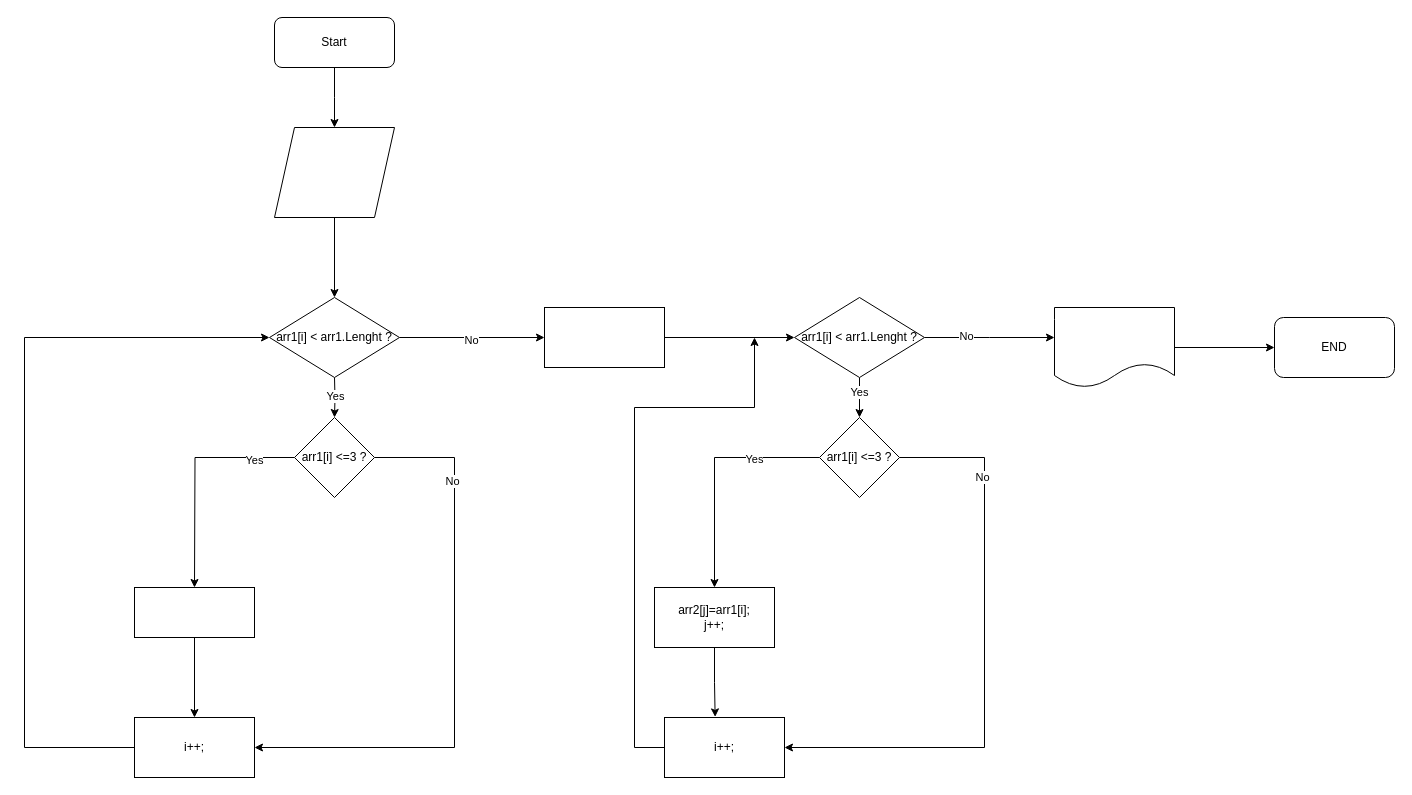
Some shapes in this 1412 by 795 pixel diagram are drawn without their labels. The shapes that lost their labels are listed below. From the top down, each one's centre as x and y in pixels, then its label:
At point (334, 172): "arr1; arr1.Lenght; i=0; j=0; count = 0;".
At point (604, 337): "i=0; arr2.Lenght = count".
At point (1114, 347): "arr2;".
At point (194, 612): "count++;".
